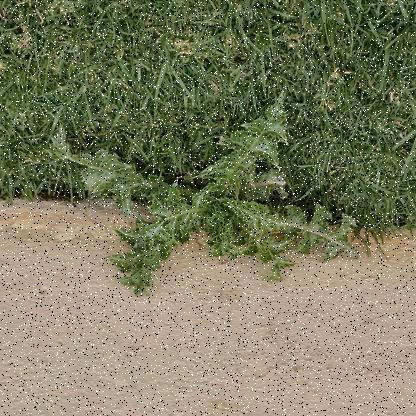Weeds: (47, 90, 359, 295)
